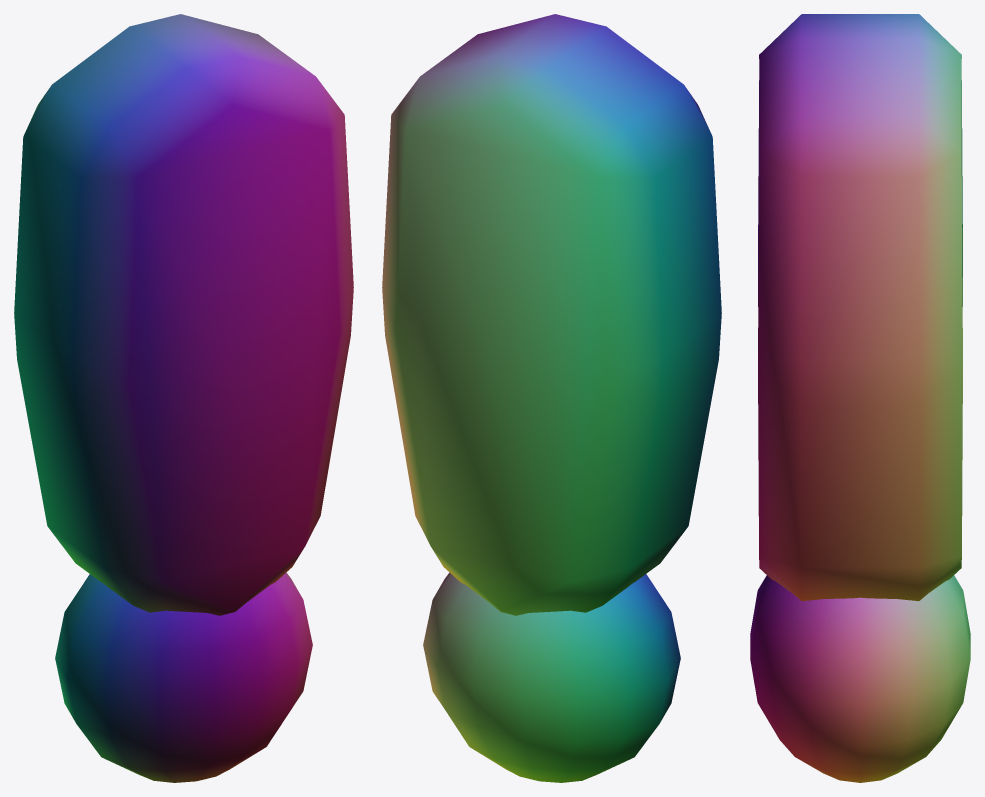
The model's file is SM_UI_QuestMarker_Excl.fbx.
3 views of the same model, side by side, from view 1: azimuth 30°, elevation 25°; view 2: azimuth 150°, elevation 25°; view 3: azimuth 270°, elevation 25° (orthographic).
Parts seen in each view (by area): view 1: SM_UI_QuestMarker_Excl; view 2: SM_UI_QuestMarker_Excl; view 3: SM_UI_QuestMarker_Excl.
Boxes of the visible parts, left/top/right/bottom form: SM_UI_QuestMarker_Excl: left=14, top=14, right=353, bottom=782; SM_UI_QuestMarker_Excl: left=382, top=14, right=721, bottom=782; SM_UI_QuestMarker_Excl: left=750, top=14, right=970, bottom=782.
Size of the model in its own units: 0.1607 by 0.4001 by 0.1075.
